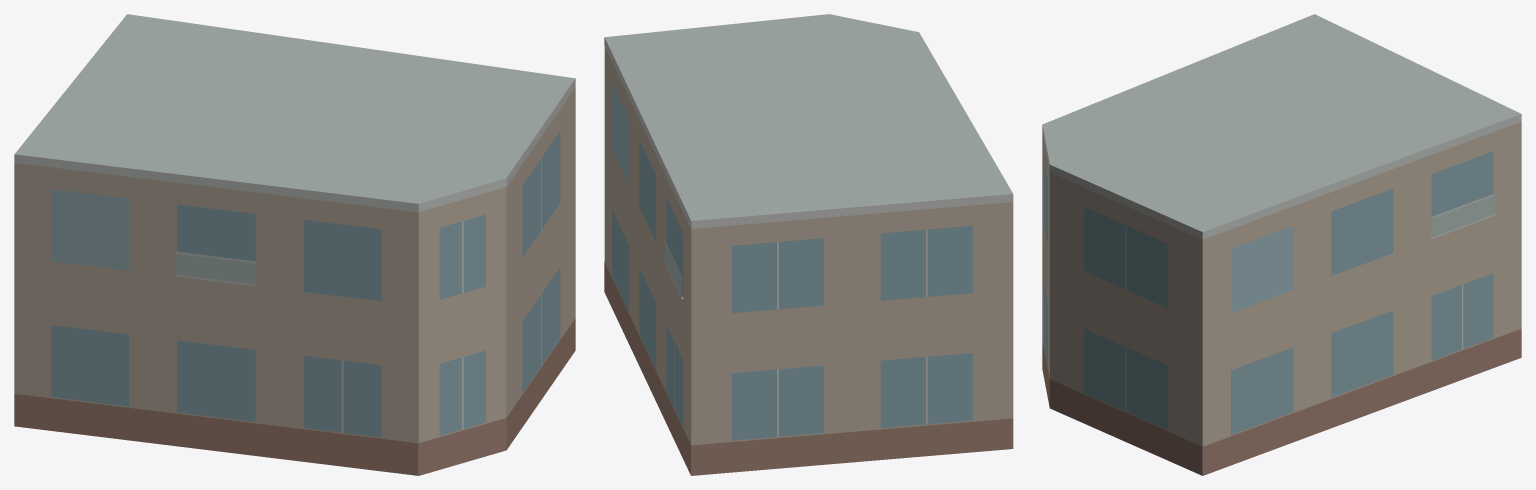
The model's file is survey-upis-32630961.glb.
The picture shows the model from 3 angles, left to right: view 1: azimuth 30°, elevation 25°; view 2: azimuth 150°, elevation 25°; view 3: azimuth 270°, elevation 25°; orthographic projection. The views are drawn at different scales.
Parts seen in each view (by area): view 1: survey-upis-32630961.tmp; view 2: survey-upis-32630961.tmp; view 3: survey-upis-32630961.tmp.
Part boxes in pixels (x1=…): survey-upis-32630961.tmp: x1=14, y1=14, x2=575, y2=475; survey-upis-32630961.tmp: x1=604, y1=14, x2=1013, y2=475; survey-upis-32630961.tmp: x1=1042, y1=14, x2=1521, y2=475.
Bounding box in the file's own units: 14.98 × 7.8 × 13.91.
